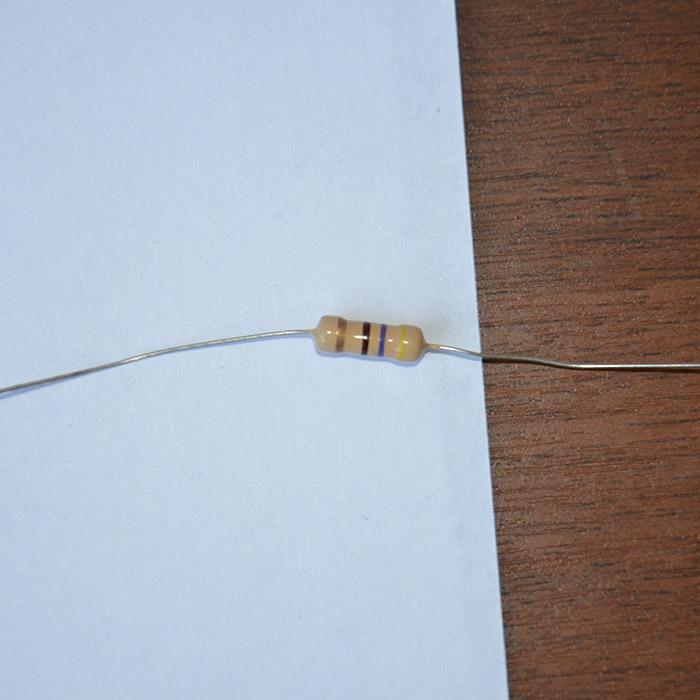resistor: (309, 314, 427, 361)
